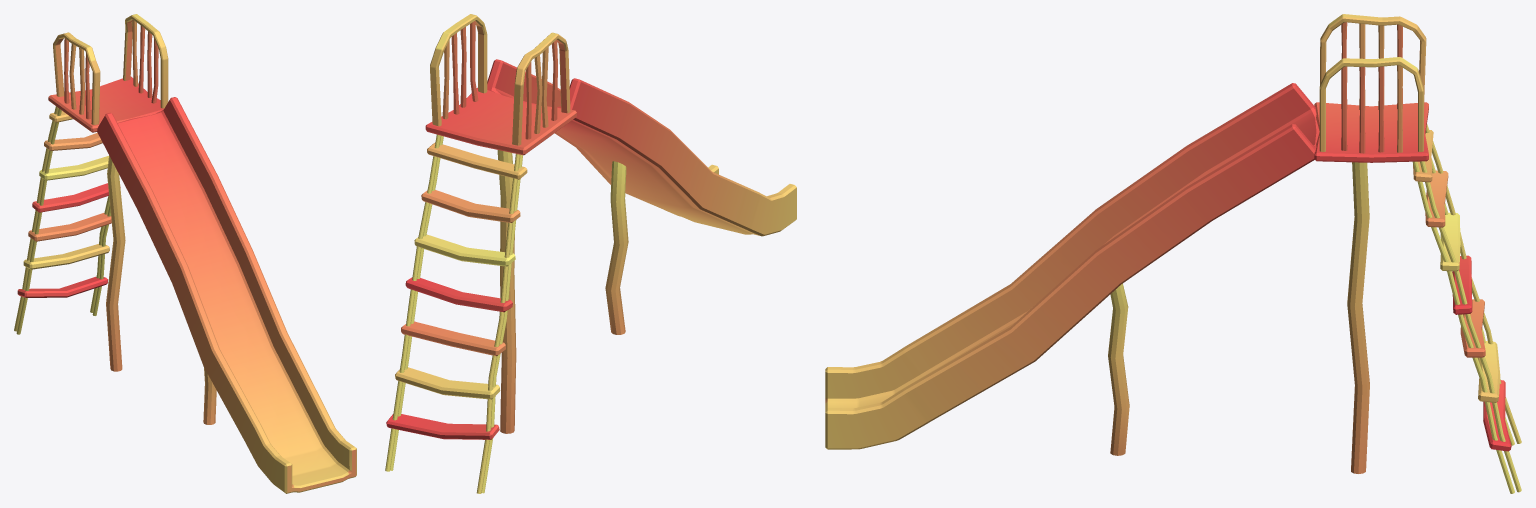
The model's file is RegularSlide.fbx.
The picture shows the model from 3 angles, left to right: view 1: azimuth 30°, elevation 25°; view 2: azimuth 150°, elevation 25°; view 3: azimuth 270°, elevation 25°; orthographic projection. The views are drawn at different scales.
Visible parts, largest first — view 1: polySurface2, polySurface23, polySurface24, polySurface1, polySurface11, polySurface3, polySurface16, polySurface15, polySurface25; view 2: polySurface2, polySurface23, polySurface24, polySurface3, polySurface11, polySurface1, polySurface25, polySurface16, polySurface15; view 3: polySurface2, polySurface23, polySurface24, polySurface1, polySurface3, polySurface11, polySurface25, polySurface16, polySurface15.
Part boxes in pixels (x1,y1,x2,y2): polySurface2: [97, 97, 356, 493]; polySurface23: [17, 111, 120, 297]; polySurface24: [48, 76, 164, 132]; polySurface1: [106, 155, 125, 371]; polySurface11: [123, 14, 168, 108]; polySurface3: [14, 106, 110, 334]; polySurface16: [53, 32, 100, 124]; polySurface15: [64, 38, 90, 119]; polySurface25: [203, 368, 216, 424]; polySurface2: [487, 59, 796, 236]; polySurface23: [386, 142, 527, 439]; polySurface24: [425, 87, 576, 155]; polySurface3: [385, 134, 522, 493]; polySurface11: [430, 14, 487, 126]; polySurface1: [497, 150, 516, 433]; polySurface25: [605, 161, 628, 334]; polySurface16: [512, 32, 570, 145]; polySurface15: [525, 39, 557, 139]; polySurface2: [825, 83, 1319, 449]; polySurface23: [1413, 130, 1511, 451]; polySurface24: [1314, 102, 1428, 162]; polySurface1: [1347, 162, 1369, 473]; polySurface3: [1412, 124, 1521, 493]; polySurface11: [1319, 57, 1423, 153]; polySurface25: [1108, 283, 1129, 455]; polySurface16: [1320, 14, 1426, 103]; polySurface15: [1341, 22, 1402, 109].
Bounding box in the file's own units: 36.75 × 135 × 197.
1 material, 1 textured.
